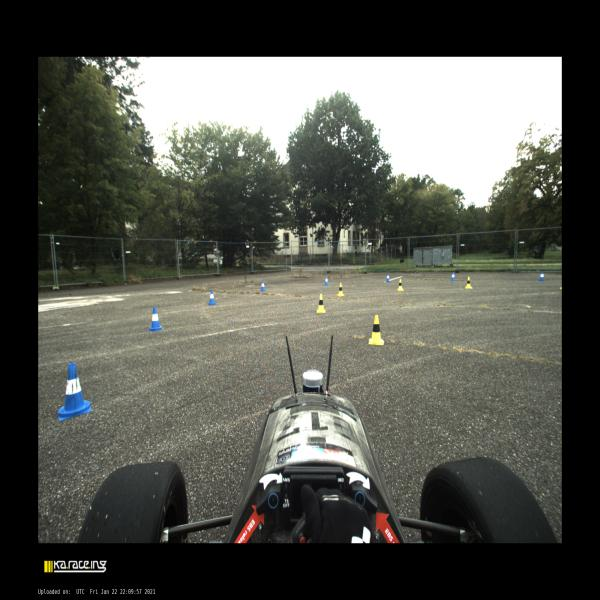blue_cone: (58, 363, 92, 421), (148, 307, 164, 331), (208, 289, 216, 305), (260, 280, 266, 292), (539, 272, 545, 281), (385, 272, 390, 282), (324, 276, 329, 285), (451, 272, 455, 280)
yellow_cone: (368, 315, 384, 345), (317, 294, 326, 313), (337, 283, 344, 296), (397, 279, 404, 291), (465, 277, 472, 289)
